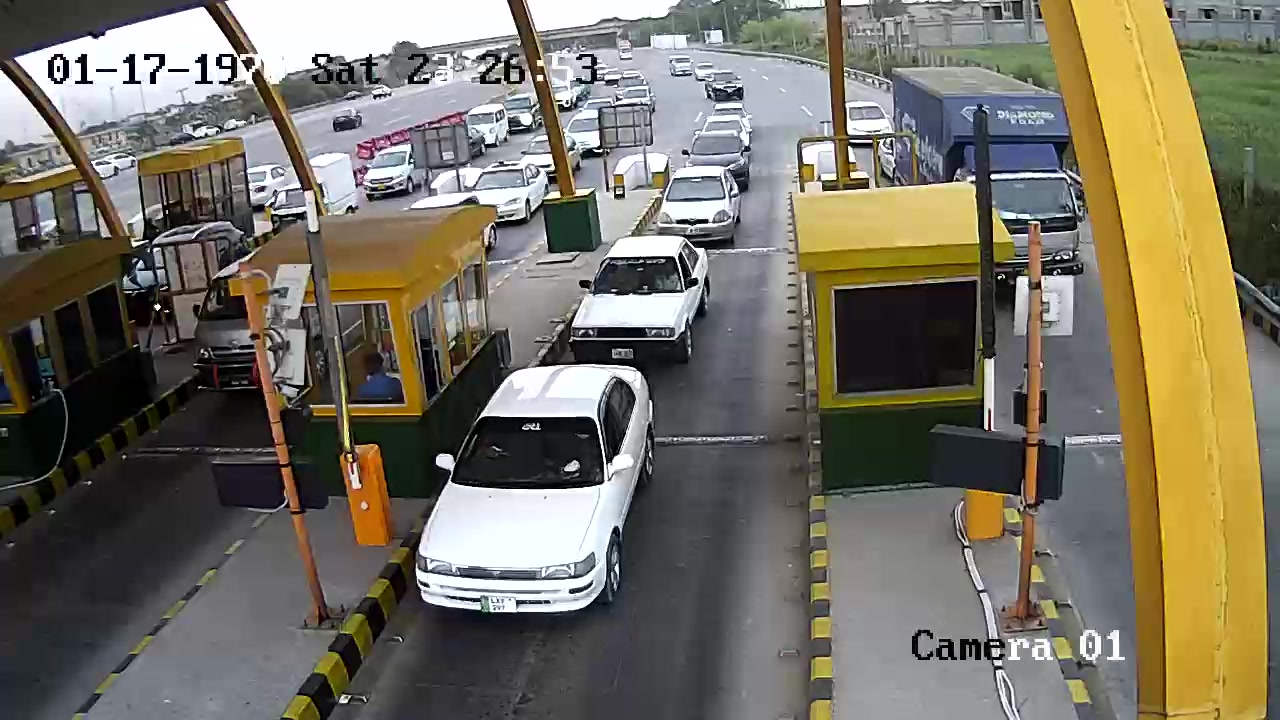F1: (420, 365, 676, 629), (559, 240, 713, 363)
